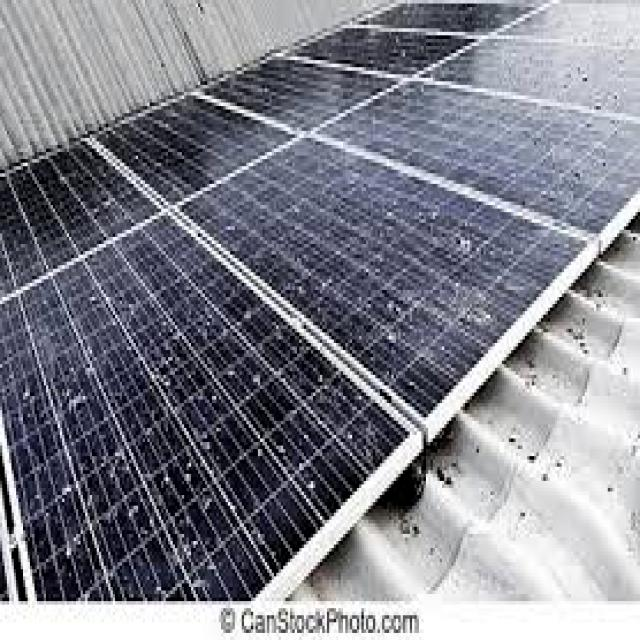dust: (38, 394, 159, 596), (179, 371, 279, 568), (96, 238, 192, 382), (305, 185, 409, 310), (436, 198, 514, 336), (484, 109, 580, 187), (28, 272, 88, 380), (292, 377, 347, 492), (237, 166, 275, 252), (392, 99, 458, 146), (214, 303, 248, 358)
